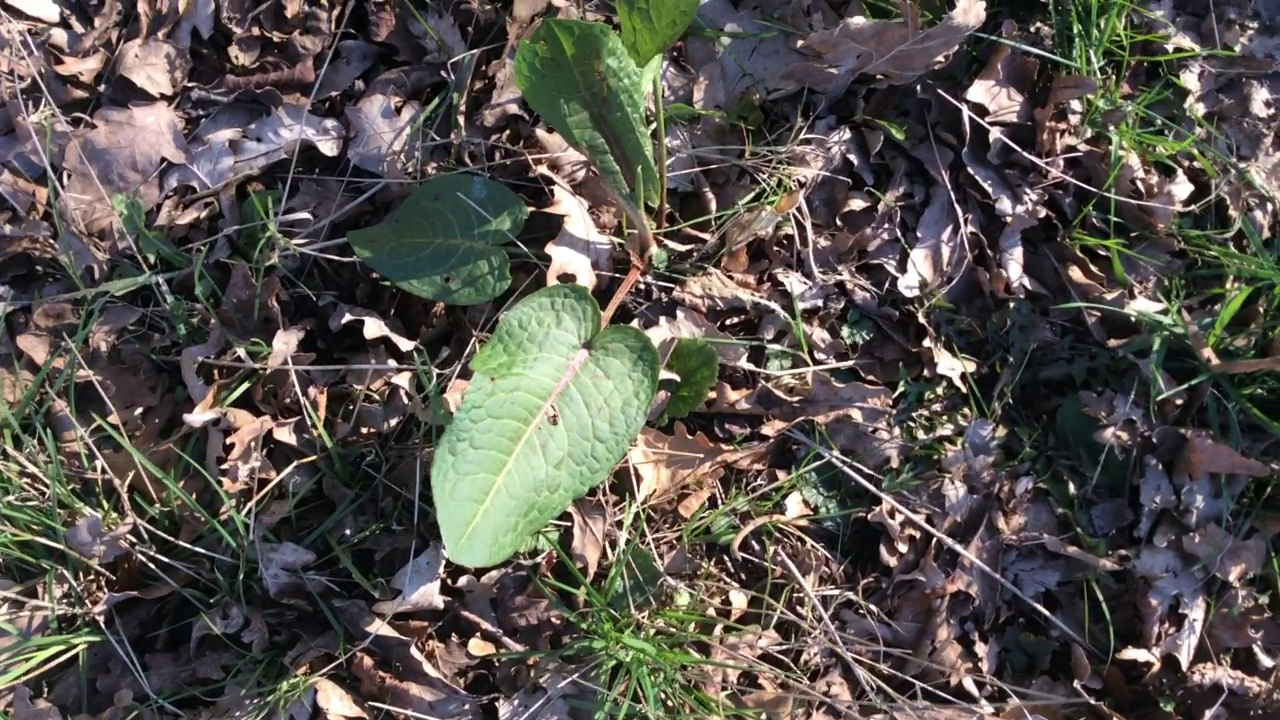rumex: (345, 1, 721, 569)
